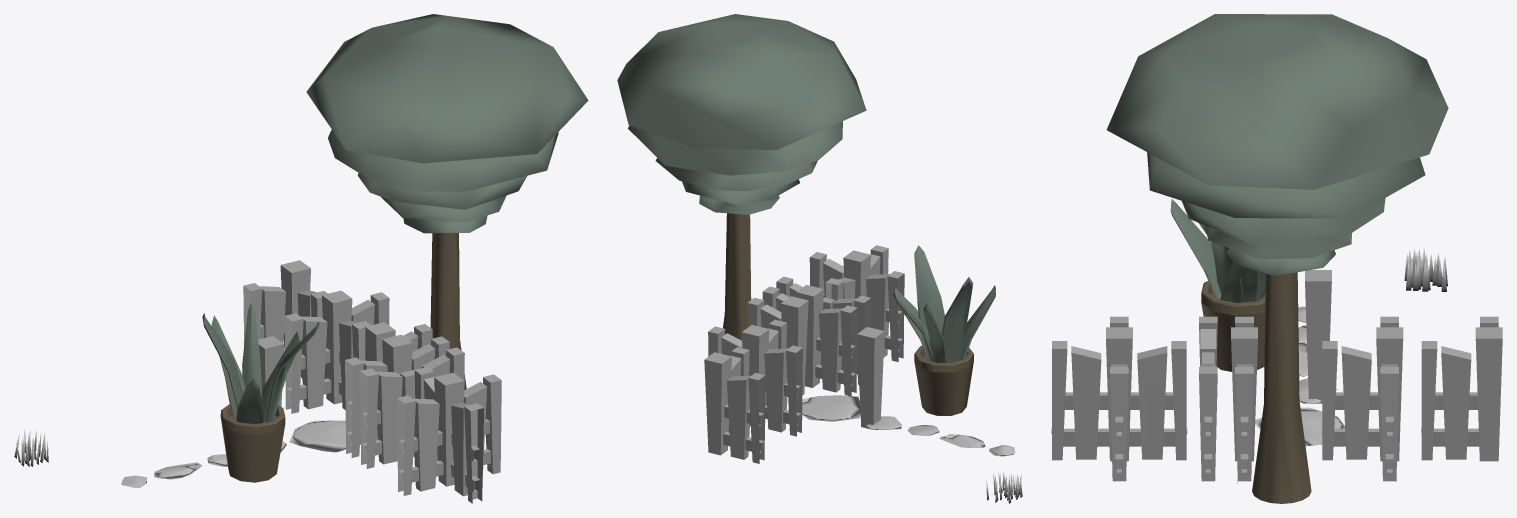
Rendered from nature.fbx.
The picture shows the model from 3 angles, left to right: view 1: azimuth 30°, elevation 25°; view 2: azimuth 150°, elevation 25°; view 3: azimuth 270°, elevation 25°; orthographic projection. The views are drawn at different scales.
Parts seen in each view (by area): view 1: S_Tree, S_Fence3, S_Plant, S_Fence2, S_Fence5, S_Fence1, S_Fence6, S_Rock3, S_Fence4, S_Fence, S_Grass; view 2: S_Tree, S_Plant, S_Fence1, S_Fence2, S_Fence3, S_Fence6, S_Fence, S_Fence4, S_Rock3, S_Fence5, S_Grass; view 3: S_Tree, S_Fence3, S_Fence2, S_Fence1, S_Plant, S_Fence6, S_Fence5, S_Fence, S_Grass, S_Rock3.
Boxes of the visible parts, box(x1,y1,x2,y2) form: S_Tree: box(306, 14, 588, 389); S_Fence3: box(397, 367, 501, 503); S_Plant: box(202, 303, 319, 482); S_Fence2: box(284, 290, 389, 413); S_Fence5: box(360, 347, 464, 468); S_Fence1: box(243, 260, 327, 378); S_Fence6: box(345, 334, 449, 457); S_Rock3: box(289, 420, 345, 452); S_Fence4: box(365, 322, 432, 362); S_Fence: box(258, 336, 284, 406); S_Grass: box(14, 429, 48, 466); S_Tree: box(617, 14, 866, 340); S_Plant: box(893, 245, 995, 415); S_Fence1: box(704, 347, 765, 463); S_Fence2: box(708, 319, 802, 436); S_Fence3: box(809, 245, 904, 361); S_Fence6: box(762, 285, 857, 396); S_Fence: box(857, 327, 884, 429); S_Fence4: box(747, 296, 808, 396); S_Rock3: box(802, 395, 860, 421); S_Fence5: box(776, 276, 871, 384); S_Grass: box(986, 470, 1022, 503); S_Tree: box(1106, 14, 1448, 503); S_Fence3: box(1051, 316, 1187, 481); S_Fence2: box(1321, 316, 1403, 481); S_Fence1: box(1421, 316, 1502, 461); S_Plant: box(1170, 199, 1265, 371); S_Fence6: box(1231, 316, 1257, 483); S_Fence5: box(1199, 316, 1217, 481); S_Fence: box(1305, 270, 1331, 403); S_Grass: box(1404, 247, 1447, 291); S_Rock3: box(1255, 407, 1344, 445).
Size of the model in its own units: 2.53 by 1.87 by 1.67.
